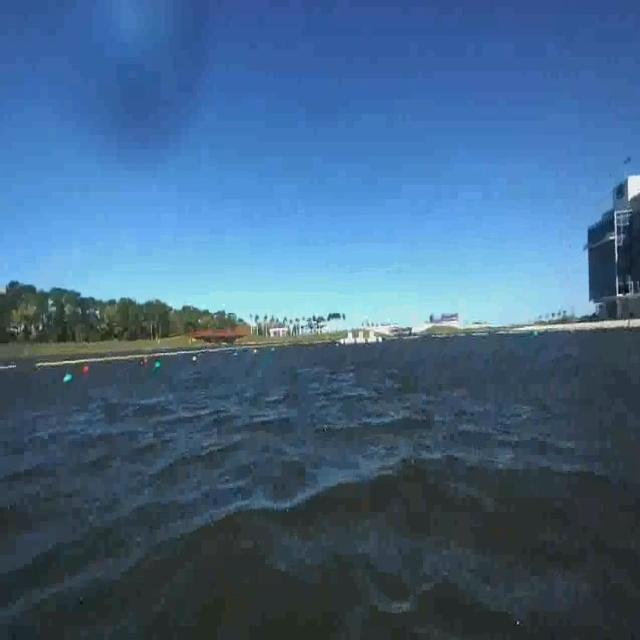green-buoy: (64, 372, 74, 382)
red-buoy: (81, 365, 89, 373)
